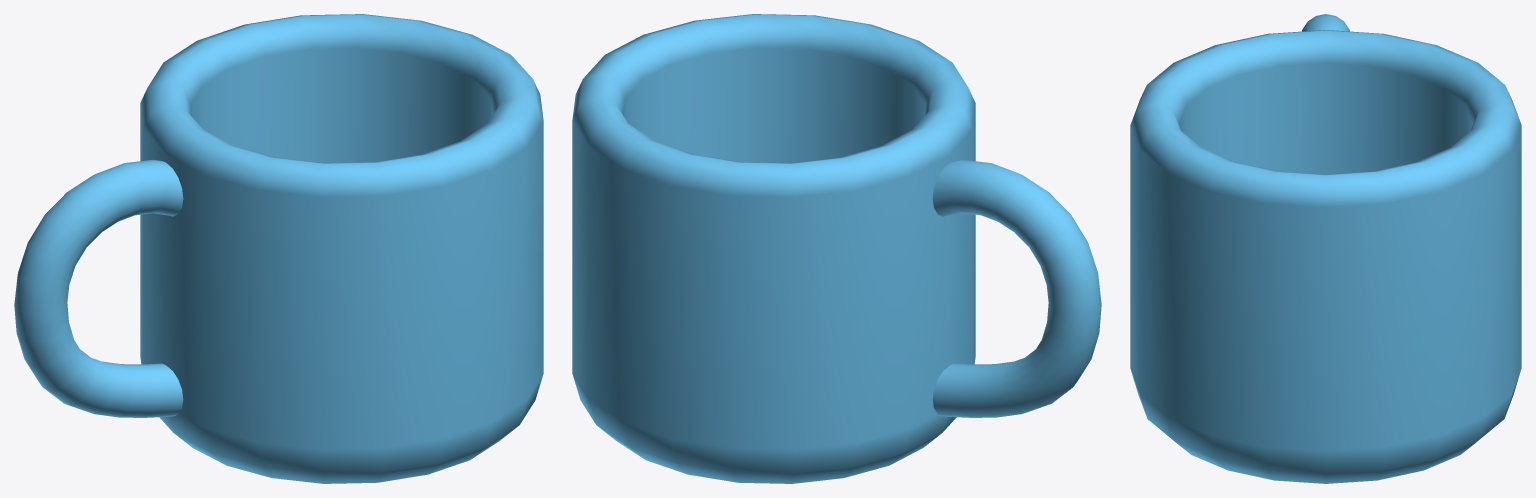
File: Store_18_Cup_2.glb
3 renders of one model, left to right at view 1: azimuth 30°, elevation 25°; view 2: azimuth 150°, elevation 25°; view 3: azimuth 270°, elevation 25°, orthographic. The views are drawn at different scales.
Parts seen in each view (by area): view 1: Store_18_Cup_2; view 2: Store_18_Cup_2; view 3: Store_18_Cup_2.
Part boxes in pixels (x1,y1,x2,y2): Store_18_Cup_2: (14, 14, 543, 483); Store_18_Cup_2: (572, 14, 1101, 483); Store_18_Cup_2: (1130, 14, 1521, 483).
Size of the model in its own units: 0.2722 by 0.1714 by 0.1913.
Materials: 1 (1 with a texture image).
